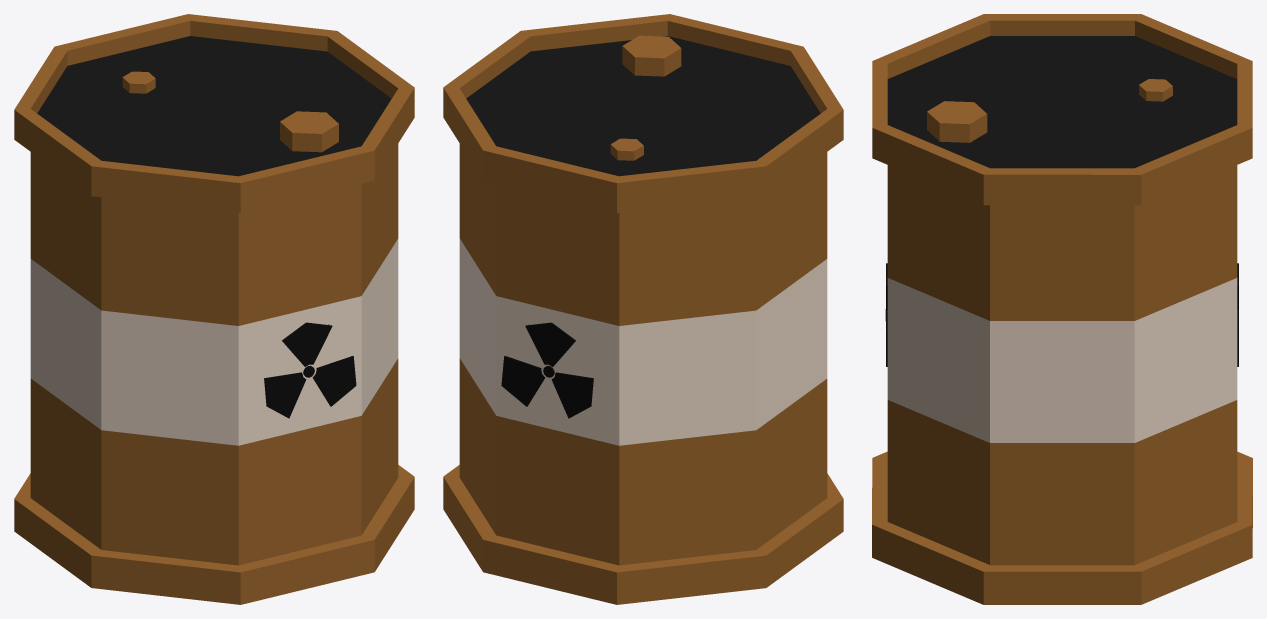
File: barrel_1.FBX
The picture shows the model from 3 angles, left to right: view 1: azimuth 30°, elevation 25°; view 2: azimuth 150°, elevation 25°; view 3: azimuth 270°, elevation 25°; orthographic projection.
Parts seen in each view (by area): view 1: barrel_1; view 2: barrel_1; view 3: barrel_1.
Boxes of the visible parts, x1=… form: barrel_1: x1=14, y1=14, x2=414, y2=604; barrel_1: x1=443, y1=14, x2=843, y2=604; barrel_1: x1=872, y1=14, x2=1252, y2=604.
Size of the model in its own units: 28.96 by 36.36 by 28.96.
